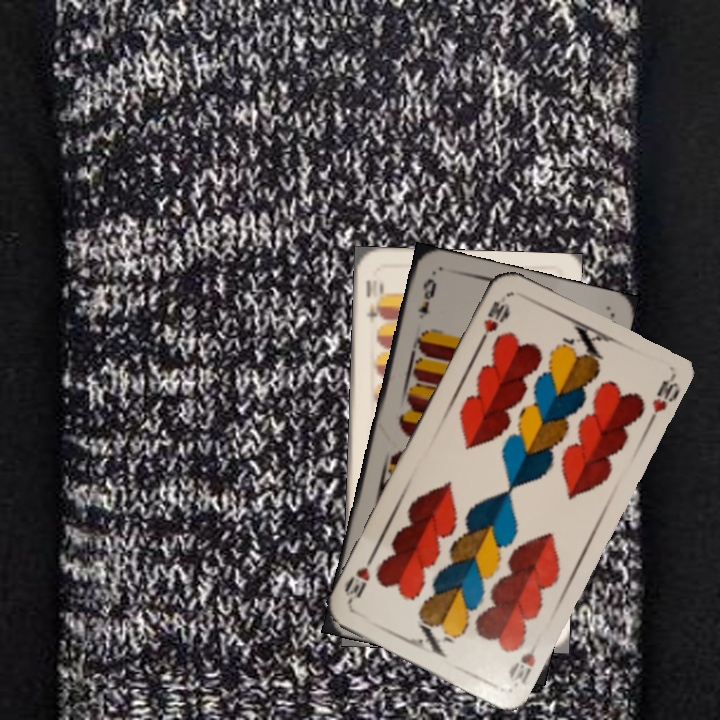E10: (363, 279, 387, 325)
E9: (414, 274, 439, 321)
H10: (504, 634, 542, 687), (475, 297, 512, 346)
